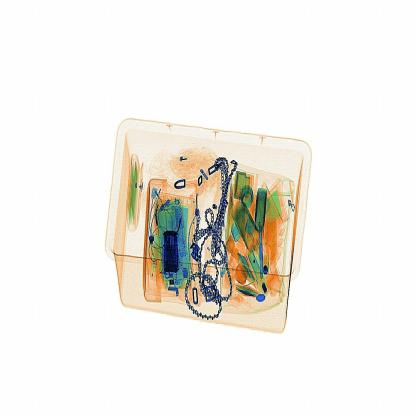scissors: (158, 220, 188, 284)
